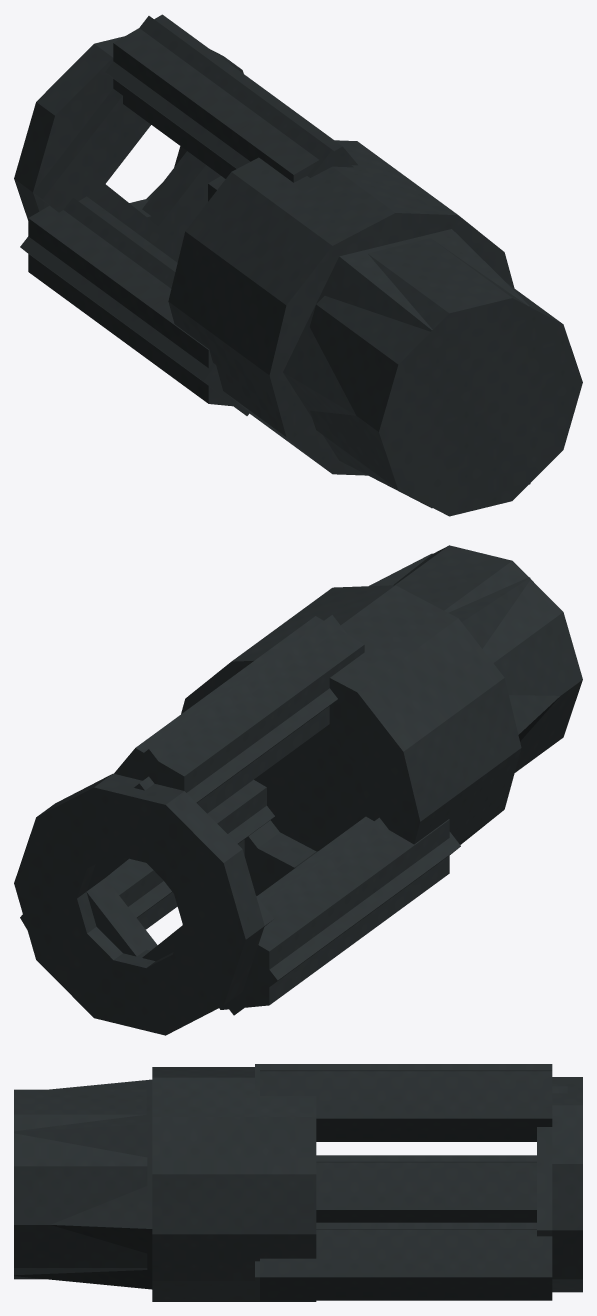
File: bren_muzzle.glb
3 renders of one model, top to bottom at view 1: azimuth 30°, elevation 25°; view 2: azimuth 150°, elevation 25°; view 3: azimuth 270°, elevation 25°, orthographic. The views are drawn at different scales.
Parts seen in each view (by area): view 1: muzzle__bren_muzzle_LOD0_RAID_Secondary_Original_steel, muzzle__bren_muzzle_LOD1_RAID_Secondary_Original_steel; view 2: muzzle__bren_muzzle_LOD0_RAID_Secondary_Original_steel, muzzle__bren_muzzle_LOD1_RAID_Secondary_Original_steel; view 3: muzzle__bren_muzzle_LOD0_RAID_Secondary_Original_steel, muzzle__bren_muzzle_LOD1_RAID_Secondary_Original_steel.
Part boxes in pixels (x1,y1,x2,y2): muzzle__bren_muzzle_LOD0_RAID_Secondary_Original_steel: (14, 14, 582, 516); muzzle__bren_muzzle_LOD1_RAID_Secondary_Original_steel: (20, 16, 578, 508); muzzle__bren_muzzle_LOD0_RAID_Secondary_Original_steel: (14, 545, 582, 1035); muzzle__bren_muzzle_LOD1_RAID_Secondary_Original_steel: (21, 553, 559, 1015); muzzle__bren_muzzle_LOD0_RAID_Secondary_Original_steel: (14, 1067, 582, 1301); muzzle__bren_muzzle_LOD1_RAID_Secondary_Original_steel: (14, 1064, 567, 1296).
Size of the model in its own units: 0.0471 by 0.0489 by 0.111.
Materials: 1 (1 with a texture image).
